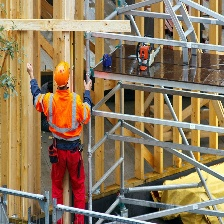helmet: (53, 61, 70, 85)
person: (27, 62, 93, 212)
vest: (37, 89, 91, 140)
